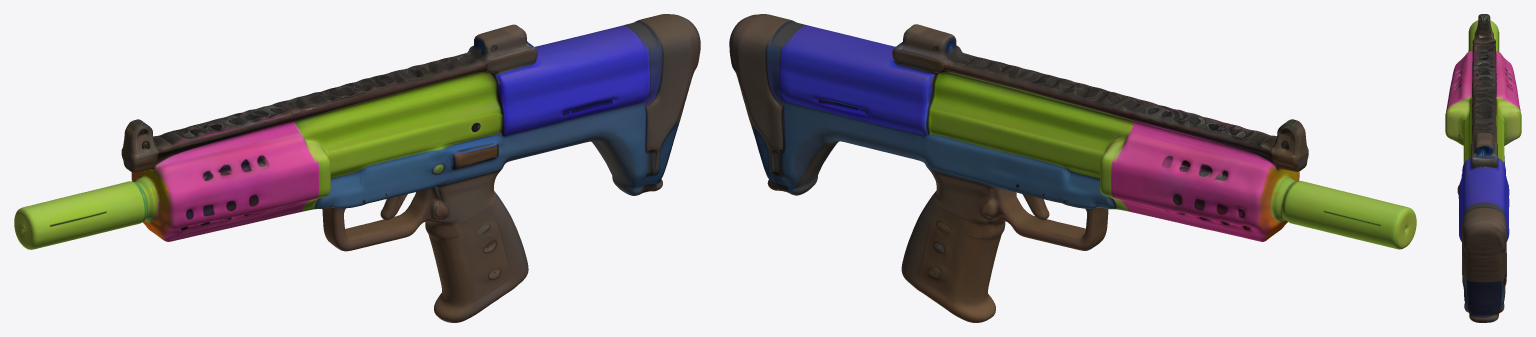
File: plasma_carbine.glb
The picture shows the model from 3 angles, left to right: view 1: azimuth 30°, elevation 25°; view 2: azimuth 150°, elevation 25°; view 3: azimuth 270°, elevation 25°; orthographic projection. The views are drawn at different scales.
Parts seen in each view (by area): view 1: tripo_node_f91076e5-5fcc-44cf-bb71-67c1f94cbc2f; view 2: tripo_node_f91076e5-5fcc-44cf-bb71-67c1f94cbc2f; view 3: tripo_node_f91076e5-5fcc-44cf-bb71-67c1f94cbc2f.
Part boxes in pixels (x1=…): tripo_node_f91076e5-5fcc-44cf-bb71-67c1f94cbc2f: x1=14, y1=14, x2=700, y2=322; tripo_node_f91076e5-5fcc-44cf-bb71-67c1f94cbc2f: x1=729, y1=14, x2=1416, y2=322; tripo_node_f91076e5-5fcc-44cf-bb71-67c1f94cbc2f: x1=1445, y1=14, x2=1521, y2=322.
Bounding box in the file's own units: 0.9494 × 0.3736 × 0.1345.
1 material, 1 textured.
